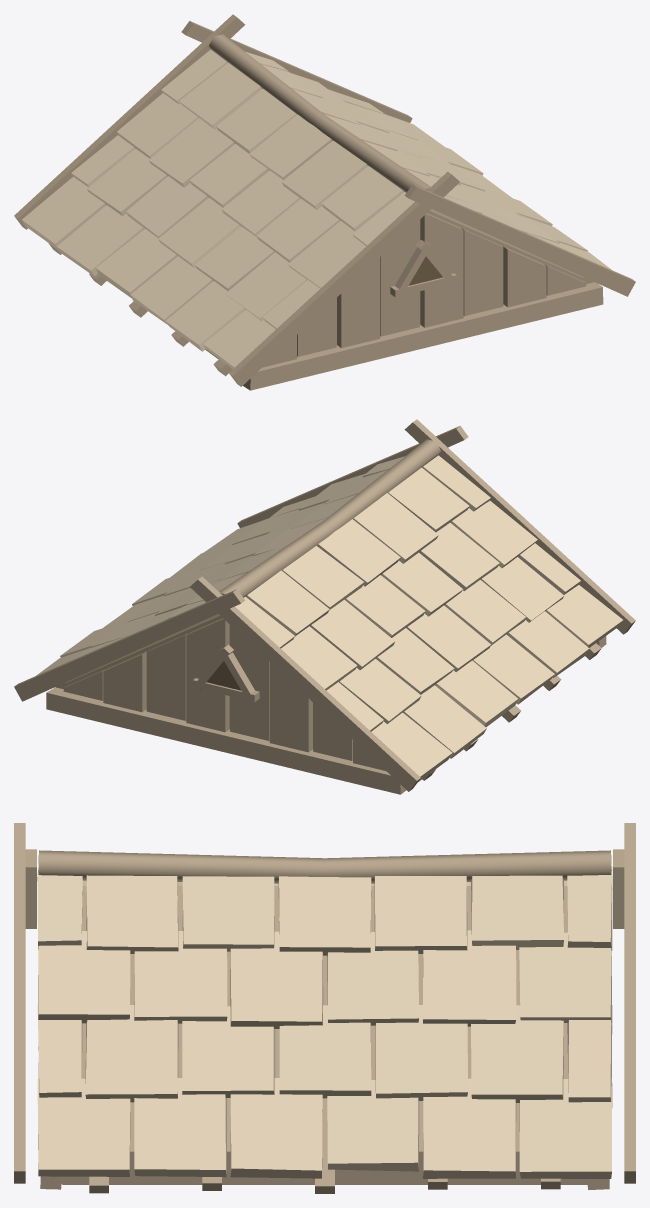
The model's file is building.gableroof.glb.
3 renders of one model, top to bottom at view 1: azimuth 30°, elevation 25°; view 2: azimuth 150°, elevation 25°; view 3: azimuth 270°, elevation 25°, orthographic. The views are drawn at different scales.
Visible parts, largest first — view 1: Paint, PaintDark; view 2: Paint, PaintDark; view 3: Paint, PaintDark.
Part boxes in pixels (x1,y1,x2,y2): Paint: (22,49,611,368); PaintDark: (14,14,635,390); Paint: (36,455,623,781); PaintDark: (14,419,635,794); Paint: (37,866,612,1178); PaintDark: (14,823,635,1193).
Bounding box in the file's own units: 2.4 × 1 × 2.37.
